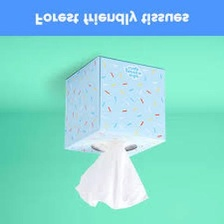book: (59, 51, 171, 162)
tissue: (69, 138, 152, 213)
